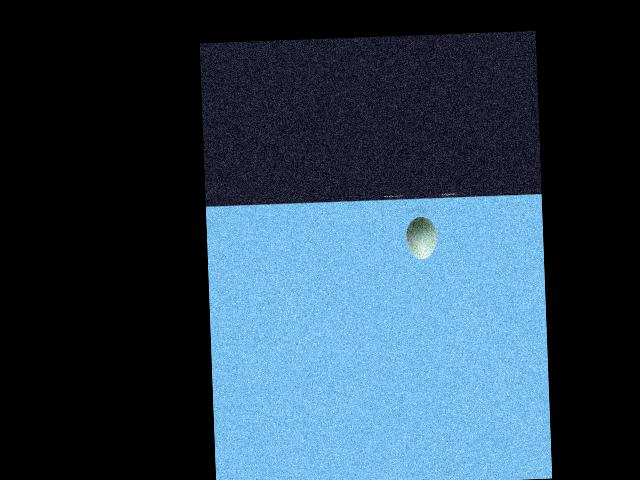egg: (404, 216, 437, 260)
